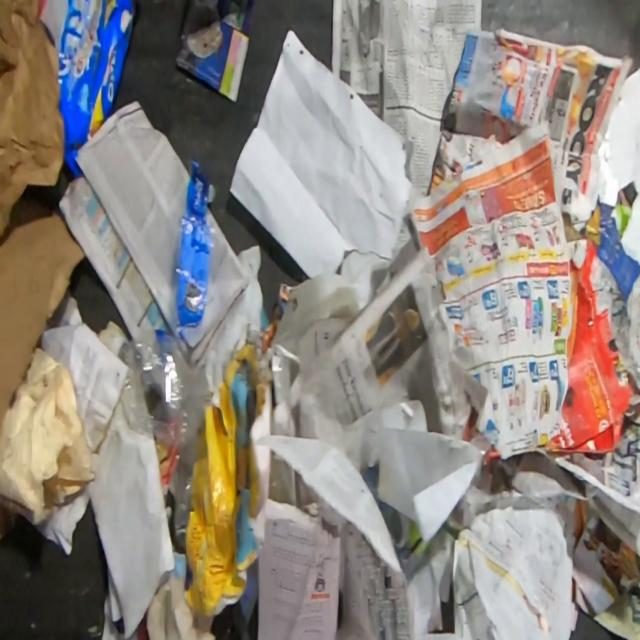cardboard: (169, 342, 271, 617), (534, 239, 636, 457), (0, 185, 86, 426), (0, 344, 98, 540), (579, 200, 640, 388), (372, 492, 474, 586)
rigid_plastic: (116, 159, 214, 553)
soft_plastic: (38, 0, 134, 180)
